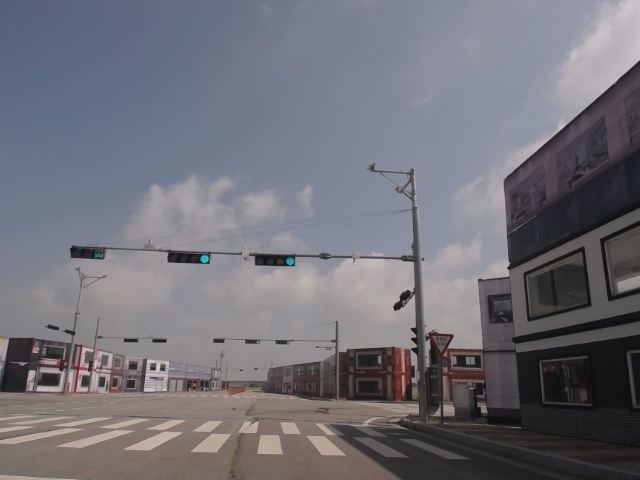straight_green_4: (169, 249, 210, 263), (256, 255, 296, 269)
